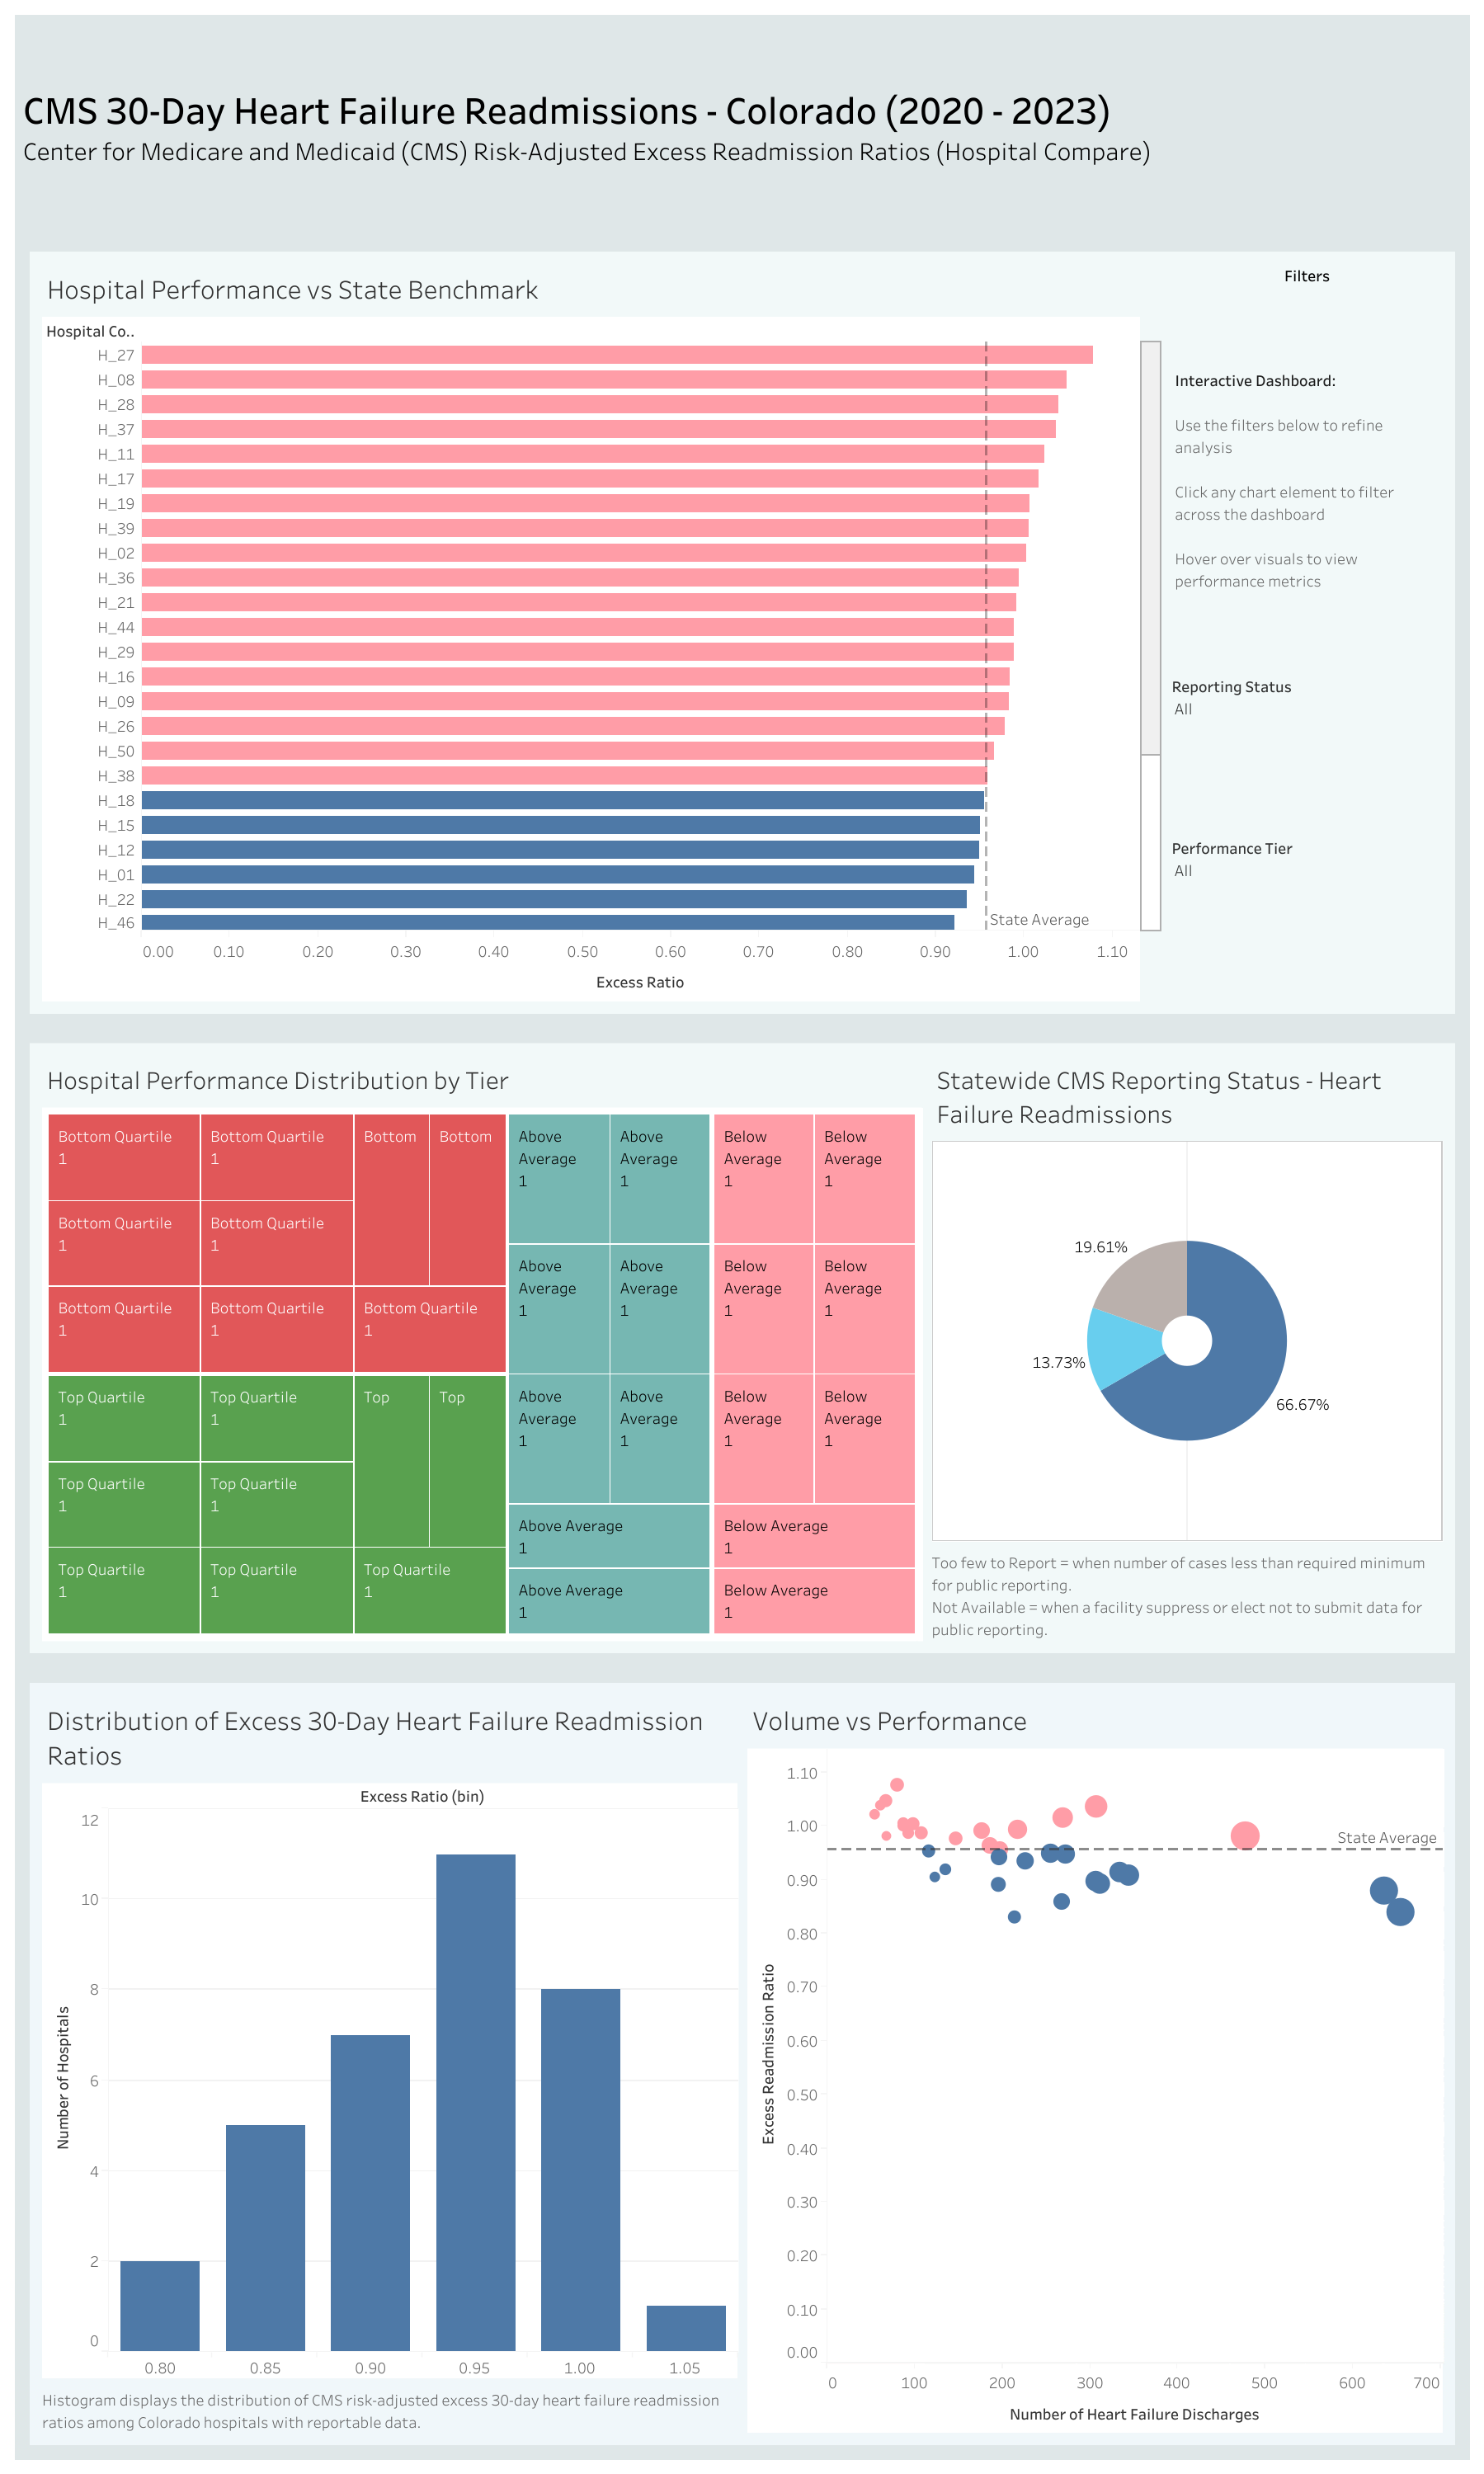

Layout of this report page (visuals, bound fields, positions):
{"tool":"tableau","page":{"name":"Dashboard","canvas":[1200,2000],"ordinal":0},"visuals":[{"type":"text","box":[12,12,1176,179]},{"type":"worksheet","title":"Overview","mark":"Automatic","rows":["hospital_code"],"cols":["excess_ratio"],"box":[30,209,913,604]},{"type":"text","box":[943,209,227,32]},{"type":"text","box":[943,241,227,305]},{"type":"filter","title":"Reporting Status","param":"[federated.1xgbqk50vv6vyr15yg4z01ivqsw5].[none:reporting_status:nk]","box":[943,546,227,131]},{"type":"filter","title":"Performance Tier","param":"[federated.1xgbqk50vv6vyr15yg4z01ivqsw5].[none:performance_tier:nk]","box":[943,677,227,136]},{"type":"worksheet","title":"Performance Tier","mark":"Automatic","box":[30,849,719,481]},{"type":"worksheet","title":"Reporting Status","mark":"Pie","cols":["Calculation_1708401022894081","Calculation_1708401022894081"],"box":[749,849,421,481]},{"type":"worksheet","title":"Excess Readmission","mark":"Bar","rows":["hospital_code"],"cols":["Excess Ratio (bin)"],"box":[30,1366,570,604]},{"type":"worksheet","title":"Volume v Performance","mark":"Circle","rows":["excess_ratio"],"cols":["discharges"],"box":[600,1366,570,604]}]}

Visuals, with their boxes in screenshot pixels (x1, y1, x2, y2), scaled from the page's 1200x2000 canvas onto the 1484x2474 screenshot:
text: [15,15,1469,236]
"Overview" worksheet: [37,258,1166,1006]
text: [1166,258,1447,298]
text: [1166,298,1447,676]
"Reporting Status" filter: [1166,676,1447,837]
"Performance Tier" filter: [1166,837,1447,1006]
"Performance Tier" worksheet: [37,1050,926,1645]
"Reporting Status" worksheet (Pie marks): [926,1050,1447,1645]
"Excess Readmission" worksheet (Bar marks): [37,1689,742,2437]
"Volume v Performance" worksheet (Circle marks): [742,1689,1447,2437]
